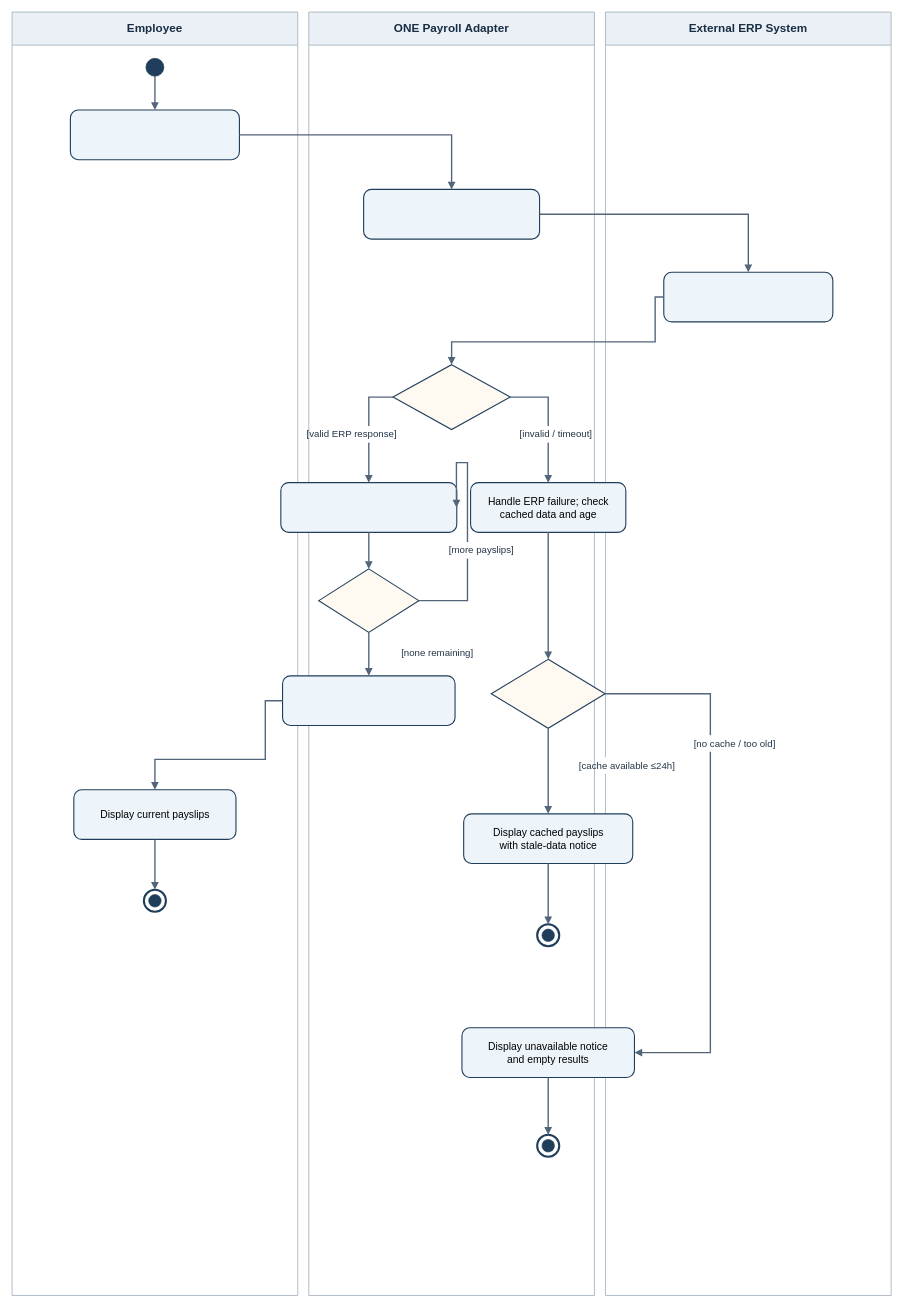
This 903x1308 diagram has some shape labels left out. The centre of each missing label's shape, as x and y in pixels:
Read earnings and deductions for next retrieved payslip: (368,507)
Refresh cached payslip data: (368,700)
Request ERP payslip records: (451,214)
Return records or integration error: (748,296)
Select pay period and request payslips: (154,134)
